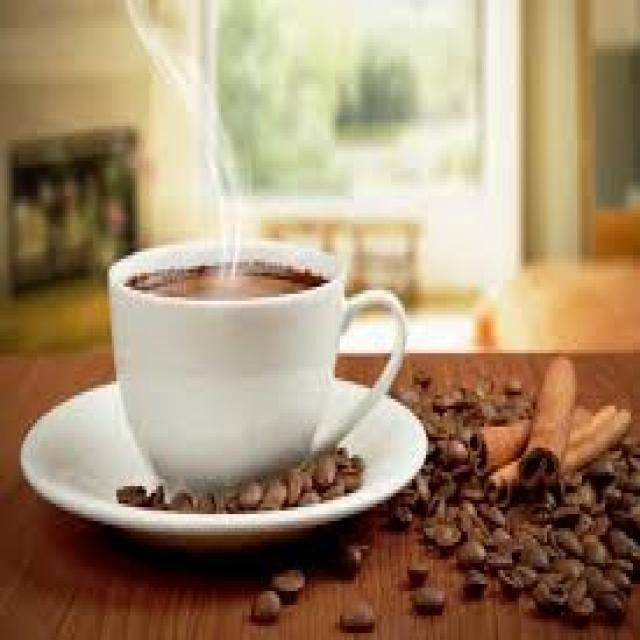taza: (88, 235, 424, 498)
